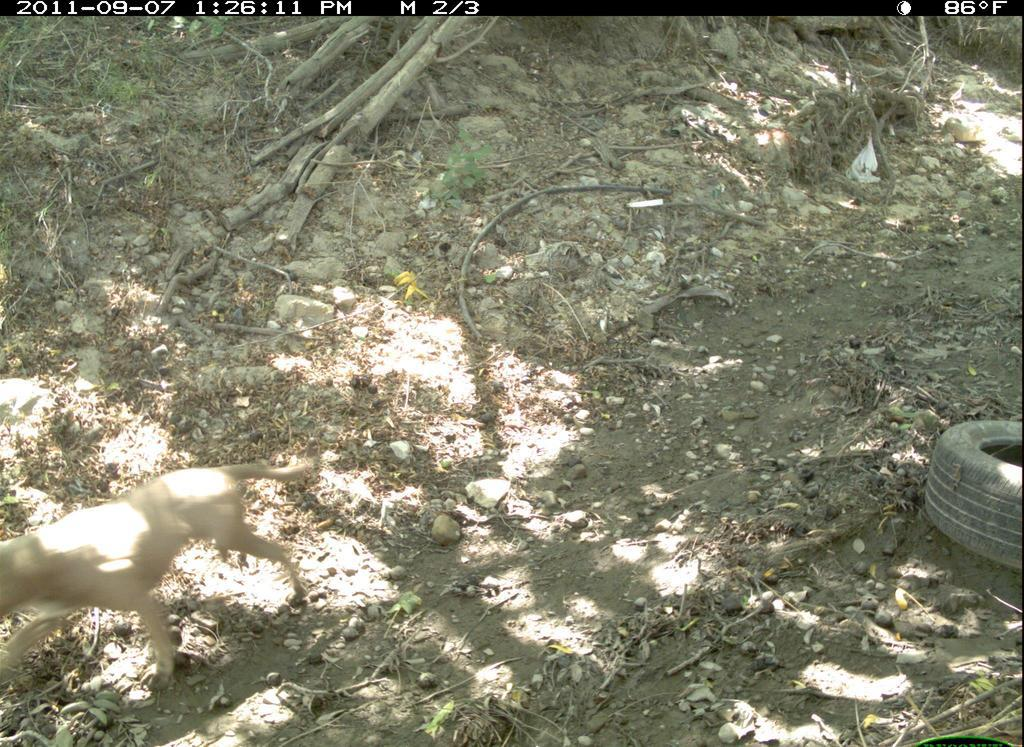dog: (1, 449, 327, 695)
